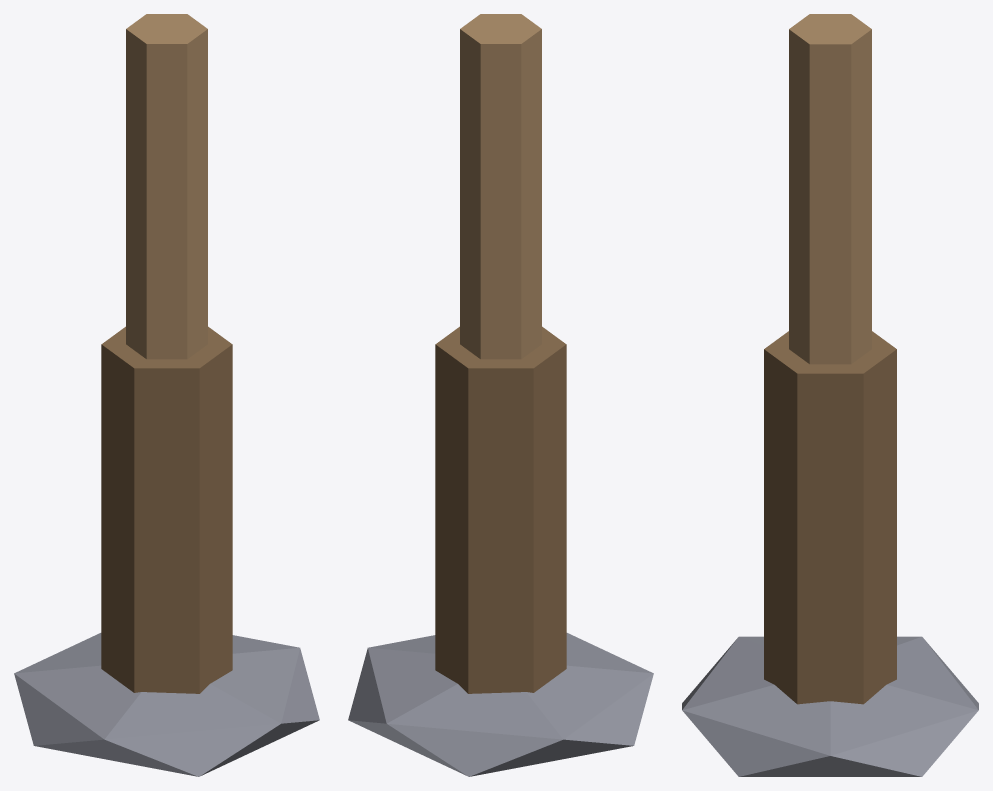
The model's file is roost.glb.
The picture shows the model from 3 angles, left to right: view 1: azimuth 30°, elevation 25°; view 2: azimuth 150°, elevation 25°; view 3: azimuth 270°, elevation 25°; orthographic projection.
Visible parts, largest first — view 1: RoostPost; view 2: RoostPost; view 3: RoostPost.
Boxes of the visible parts, x1,y1,x2,y2 form: RoostPost: (14, 14, 319, 776); RoostPost: (348, 14, 653, 776); RoostPost: (682, 14, 978, 776).
Size of the model in its own units: 0.7513 by 1.9 by 0.7145.
